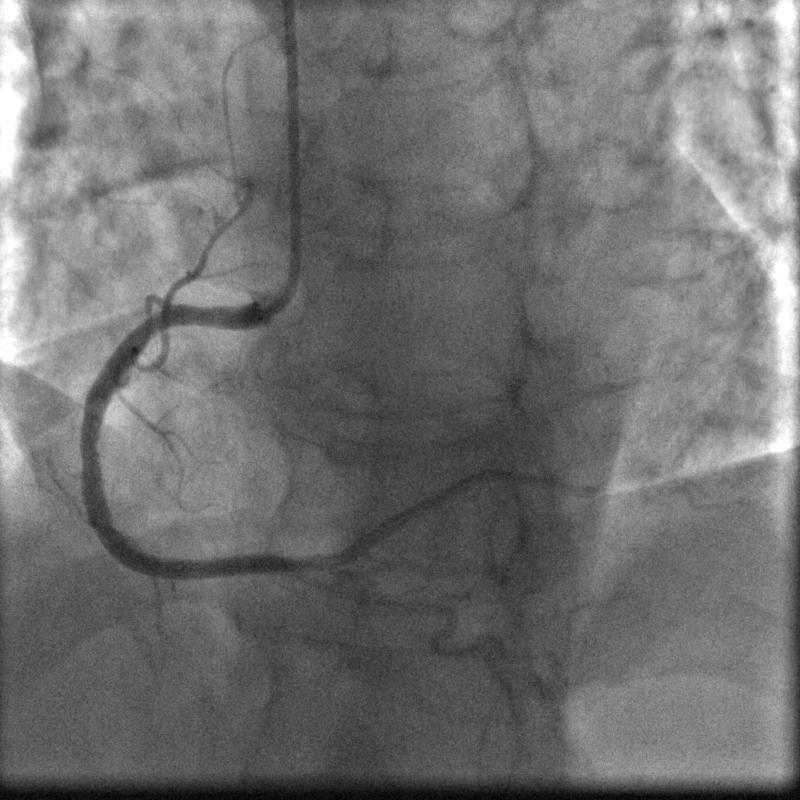Stenosis: (68, 426, 108, 478)
